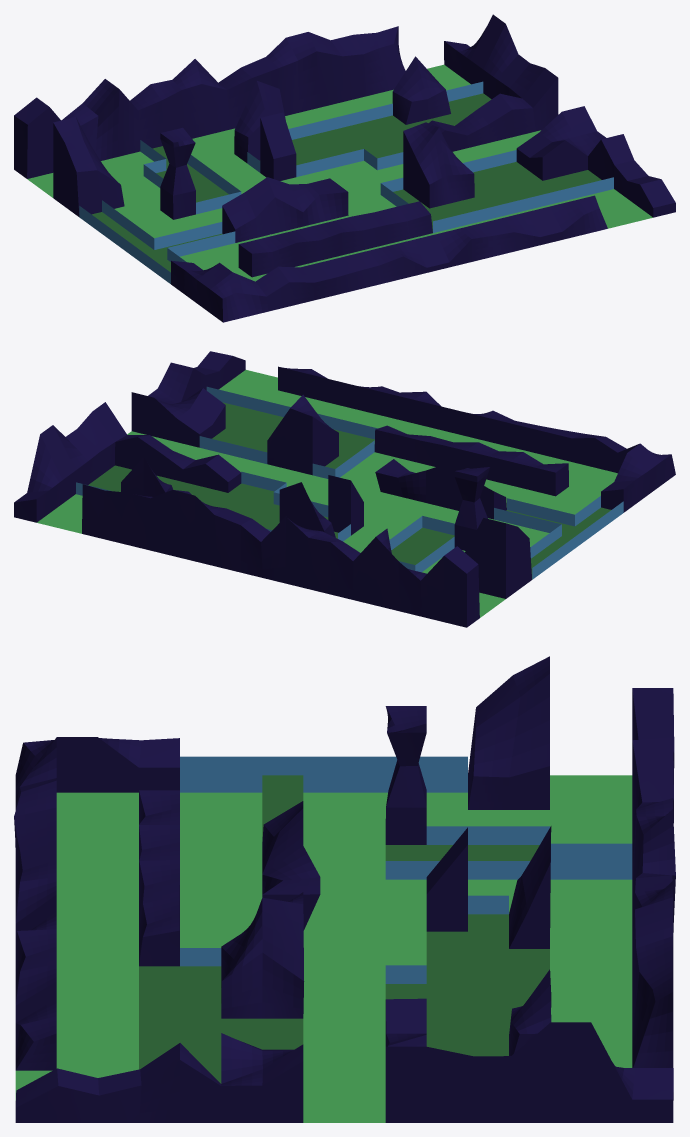
The model's file is Level-Layout3.fbx.
3 views of the same model, one above another, from view 1: azimuth 30°, elevation 25°; view 2: azimuth 150°, elevation 25°; view 3: azimuth 270°, elevation 25° (orthographic). The views are drawn at different scales.
Parts seen in each view (by area): view 1: Layout_004-Montanhas, Layout_004-Chao, Layout_004-Paredes; view 2: Layout_004-Montanhas, Layout_004-Chao, Layout_004-Paredes; view 3: Layout_004-Montanhas, Layout_004-Chao, Layout_004-Paredes.
Boxes of the visible parts, x1,y1,x2,y2 form: Layout_004-Montanhas: [14, 14, 675, 322]; Layout_004-Chao: [27, 64, 652, 281]; Layout_004-Paredes: [79, 81, 613, 283]; Layout_004-Montanhas: [14, 351, 675, 627]; Layout_004-Chao: [37, 370, 617, 617]; Layout_004-Paredes: [76, 386, 623, 579]; Layout_004-Montanhas: [14, 656, 675, 1122]; Layout_004-Chao: [15, 775, 632, 1122]; Layout_004-Paredes: [180, 756, 632, 983].
Bounding box in the file's own units: 2001 × 326 × 1610.
